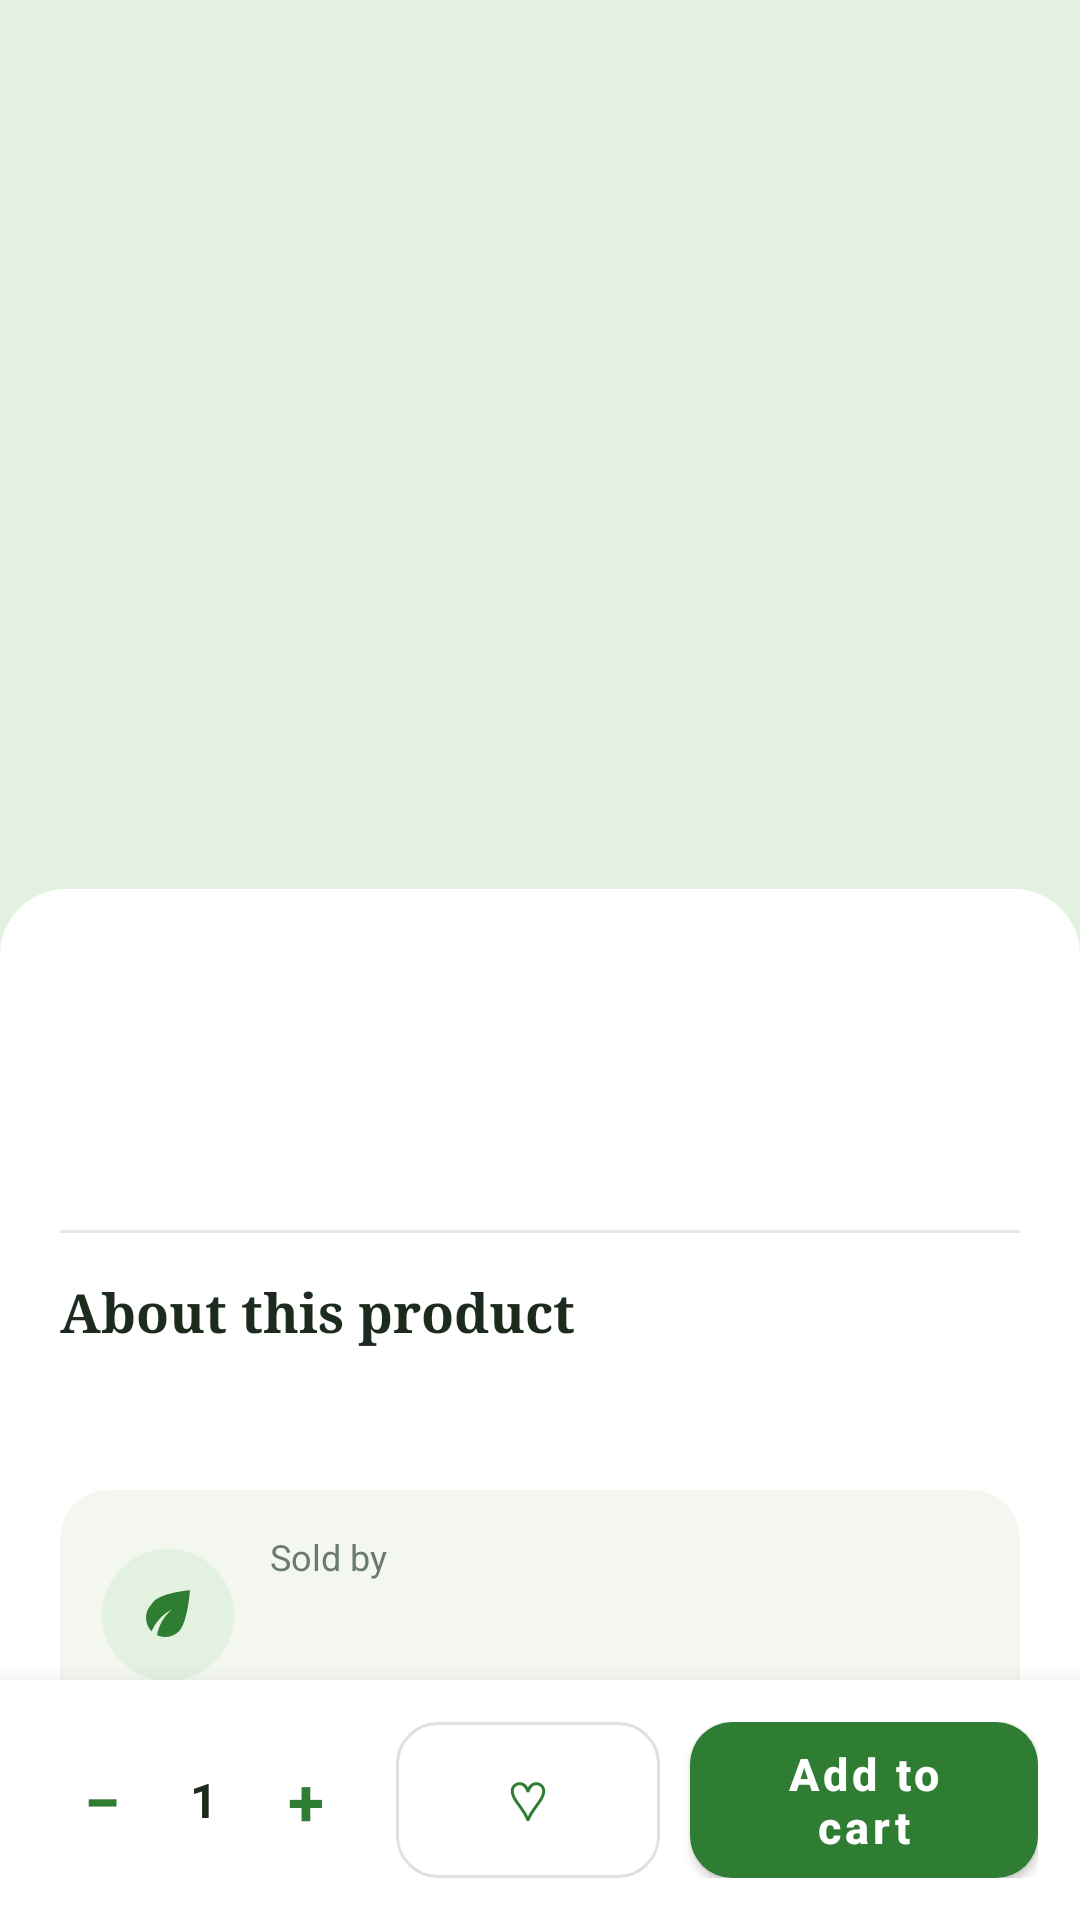

Where to tap for icons on this 1080*1920 app screen, as [x,y]:
Farm: [168,1613]
